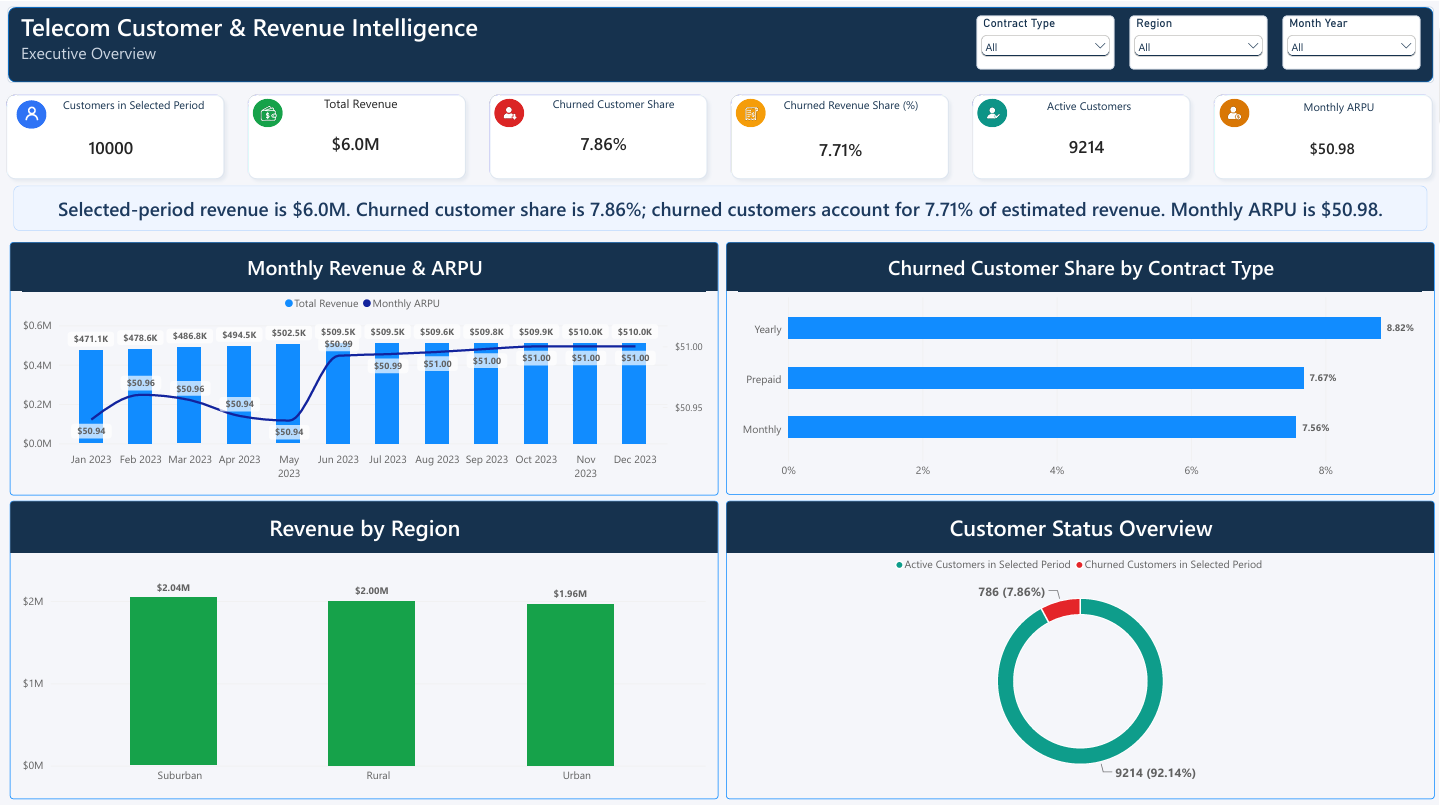

This screenshot's page, from the dashboard's own definition file:
{"tool":"powerbi","page":{"name":"Executive Overview","canvas":[1920,1080],"ordinal":0},"visuals":[{"type":"shape","box":[10,6,1902,102],"z":0},{"type":"textbox","box":[28,10,760,112],"z":1000},{"type":"slicer","fields":{"Values":["DimDate.Month Year"]},"box":[1710,18,184,72],"z":2000},{"type":"slicer","fields":{"Values":["DimCustomer.Region"]},"box":[1506,18,184,72],"z":3000},{"type":"slicer","fields":{"Values":["DimCustomer.ContractType"]},"box":[1302,18,184,72],"z":4000},{"type":"shape","box":[0,114.5,308.3,130],"z":5000,"group":"g1"},{"type":"group","id":"g1","title":"Group 1","box":[0,114.5,308.3,130],"z":5000},{"type":"group","id":"g2","title":"Group 2","box":[322.2,114.5,308,130],"z":5000,"group":"g27"},{"type":"shape","box":[322.2,114.5,308,130],"z":5000,"group":"g8"},{"type":"group","id":"g3","title":"Group 2","box":[644,114.5,308,130],"z":5000,"group":"g28"},{"type":"shape","box":[644,114.5,308,130],"z":5000,"group":"g9"},{"type":"group","id":"g4","title":"Group 2","box":[965.8,114.5,308.3,130],"z":5000,"group":"g29"},{"type":"shape","box":[965.8,114.5,308.3,130],"z":5000,"group":"g10"},{"type":"group","id":"g5","title":"Group 2","box":[1288,114.5,308.3,130],"z":5000,"group":"g30"},{"type":"shape","box":[1288,114.5,308.3,130],"z":5000,"group":"g11"},{"type":"group","id":"g6","title":"Group 2","box":[1610.1,114.5,308.8,130],"z":5000,"group":"g31"},{"type":"shape","box":[1610.1,114.5,308.8,130],"z":5000,"group":"g12"},{"type":"group","id":"g7","title":"Group 7","box":[322.2,114.5,308,130],"z":6000},{"type":"group","id":"g8","title":"Group 1","box":[322.2,114.5,308,130],"z":6000,"group":"g19"},{"type":"group","id":"g9","title":"Group 1","box":[644,114.5,308,130],"z":6000,"group":"g20"},{"type":"group","id":"g10","title":"Group 1","box":[965.8,114.5,308.3,130],"z":6000,"group":"g21"},{"type":"group","id":"g11","title":"Group 1","box":[1288,114.5,308.3,130],"z":6000,"group":"g22"},{"type":"group","id":"g12","title":"Group 1","box":[1610.1,114.5,308.8,130],"z":6000,"group":"g23"},{"type":"group","id":"g13","title":"Group 7","box":[644,114.5,308,130],"z":7000},{"type":"shape","box":[337.7,128.9,40,37.8],"z":7000,"group":"g27"},{"type":"shape","box":[659.5,128.9,40,37.8],"z":7000,"group":"g28"},{"type":"shape","box":[981.3,128.9,40,37.8],"z":7000,"group":"g29"},{"type":"shape","box":[1303.5,128.9,40,37.8],"z":7000,"group":"g30"},{"type":"shape","box":[1625.6,128.9,40.1,37.8],"z":7000,"group":"g31"},{"type":"shape","box":[22.2,130.4,40,37.8],"z":7000,"group":"g1"},{"type":"group","id":"g14","title":"Group 3","box":[322.2,114.5,308,130],"z":7001,"group":"g2"},{"type":"group","id":"g15","title":"Group 3","box":[644,114.5,308,130],"z":7001,"group":"g3"},{"type":"group","id":"g16","title":"Group 3","box":[965.8,114.5,308.3,130],"z":7001,"group":"g4"},{"type":"group","id":"g17","title":"Group 3","box":[1288,114.5,308.3,130],"z":7001,"group":"g5"},{"type":"group","id":"g18","title":"Group 3","box":[1610.1,114.5,308.8,130],"z":7001,"group":"g6"},{"type":"group","id":"g19","title":"Group 4","box":[322.2,114.5,308,130],"z":7003,"group":"g14"},{"type":"group","id":"g20","title":"Group 4","box":[644,114.5,308,130],"z":7003,"group":"g15"},{"type":"group","id":"g21","title":"Group 4","box":[965.8,114.5,308.3,130],"z":7003,"group":"g16"},{"type":"group","id":"g22","title":"Group 4","box":[1288,114.5,308.3,130],"z":7003,"group":"g17"},{"type":"group","id":"g23","title":"Group 4","box":[1610.1,114.5,308.8,130],"z":7003,"group":"g18"},{"type":"group","id":"g24","title":"Group 7","box":[965.8,114.5,308.3,130],"z":8000},{"type":"image","box":[24.9,135,34.3,26.3],"z":8000,"group":"g1"},{"type":"group","id":"g25","title":"Group 7","box":[1288,114.5,308.3,130],"z":9000},{"type":"textbox","box":[419,124,124.4,28.9],"z":9000,"group":"g8"},{"type":"textbox","box":[729,125.3,185,41.7],"z":9000,"group":"g9"},{"type":"textbox","box":[1045.1,126.5,188.7,38.7],"z":9000,"group":"g10"},{"type":"textbox","box":[76,127,212.5,27.5],"z":9000,"group":"g1"},{"type":"textbox","box":[1384.2,127.8,153.5,35],"z":9000,"group":"g11"},{"type":"textbox","box":[1726,128.2,116.1,33.9],"z":9000,"group":"g12"},{"type":"image","box":[341.1,134.6,34.3,26.3],"z":9000,"group":"g27"},{"type":"image","box":[662.9,134.6,34.3,26.3],"z":9000,"group":"g28"},{"type":"image","box":[984.7,134.6,34.3,26.3],"z":9000,"group":"g29"},{"type":"image","box":[1306.9,134.6,34.3,26.3],"z":9000,"group":"g30"},{"type":"image","box":[1629,134.6,34.4,26.3],"z":9000,"group":"g31"},{"type":"group","id":"g26","title":"Group 7","box":[1610.1,114.5,308.8,130],"z":10000},{"type":"cardVisual","fields":{"Data":["_Measures.Total Revenue"]},"box":[426.6,159,110,56.7],"z":10000,"group":"g8"},{"type":"cardVisual","fields":{"Data":["_Measures.Churn Share in Selected Period"]},"box":[758.1,159,103.3,56.7],"z":10000,"group":"g9"},{"type":"cardVisual","fields":{"Data":["_Measures.Customers in Selected Period"]},"box":[101.7,162.5,106.8,61.7],"z":10000,"group":"g1"},{"type":"cardVisual","fields":{"Data":["_Measures.Active Customers in Selected Period"]},"box":[1408.6,164.2,103.4,56.7],"z":10000,"group":"g11"},{"type":"cardVisual","fields":{"Data":["_Measures.Revenue at Risk %"]},"box":[1076.2,167.1,103.4,56.7],"z":10000,"group":"g10"},{"type":"cardVisual","fields":{"Data":["_Measures.ARPU"]},"box":[1730.3,167.1,131.9,53.7],"z":10000,"group":"g12"},{"type":"lineStackedColumnComboChart","title":"Monthly Revenue & ARPU","fields":{"Category":["DimDate.Month Year"],"Y":["_Measures.Total Revenue"],"Y2":["_Measures.ARPU"]},"box":[12.5,320,945,337.5],"z":11000},{"type":"group","id":"g27","title":"Group 8","box":[322.2,114.5,308,130],"z":11002,"group":"g7"},{"type":"group","id":"g28","title":"Group 8","box":[644,114.5,308,130],"z":11002,"group":"g13"},{"type":"group","id":"g29","title":"Group 8","box":[965.8,114.5,308.3,130],"z":11002,"group":"g24"},{"type":"group","id":"g30","title":"Group 8","box":[1288,114.5,308.3,130],"z":11002,"group":"g25"},{"type":"group","id":"g31","title":"Group 8","box":[1610.1,114.5,308.8,130],"z":11002,"group":"g26"},{"type":"clusteredBarChart","title":"Churned Customer Share by Contract Type","fields":{"Category":["DimCustomer.ContractType"],"Y":["_Measures.Churn Share in Selected Period"]},"box":[968.3,319.5,945,337.5],"z":12000},{"type":"clusteredColumnChart","title":"Revenue by Region","fields":{"Category":["DimCustomer.Region"],"Y":["_Measures.Total Revenue"]},"box":[12.5,665,945,397.5],"z":13000},{"type":"donutChart","title":"Customer Status Overview","fields":{"Y":["_Measures.Active Customers in Selected Period","_Measures.Churned Customers in Selected Period"]},"box":[967.5,665,945,397.5],"z":14000},{"type":"cardVisual","fields":{"Data":["_Measures.Executive Insight"]},"box":[17.5,245,1885,60],"z":15000}]}

Visuals, with their boxes in screenshot pixels (x1, y1, x2, y2), scaled from the page's 1920x1080 canvas onto the 1441x805 screenshot:
shape: {"left": 8, "top": 4, "right": 1435, "bottom": 80}
textbox: {"left": 21, "top": 7, "right": 591, "bottom": 91}
slicer - DimDate.Month Year: {"left": 1283, "top": 13, "right": 1421, "bottom": 67}
slicer - DimCustomer.Region: {"left": 1130, "top": 13, "right": 1268, "bottom": 67}
slicer - DimCustomer.ContractType: {"left": 977, "top": 13, "right": 1115, "bottom": 67}
shape: {"left": 0, "top": 85, "right": 231, "bottom": 182}
"Group 1" group: {"left": 0, "top": 85, "right": 231, "bottom": 182}
"Group 2" group: {"left": 242, "top": 85, "right": 473, "bottom": 182}
shape: {"left": 242, "top": 85, "right": 473, "bottom": 182}
"Group 2" group: {"left": 483, "top": 85, "right": 714, "bottom": 182}
shape: {"left": 483, "top": 85, "right": 714, "bottom": 182}
"Group 2" group: {"left": 725, "top": 85, "right": 956, "bottom": 182}
shape: {"left": 725, "top": 85, "right": 956, "bottom": 182}
"Group 2" group: {"left": 967, "top": 85, "right": 1198, "bottom": 182}
shape: {"left": 967, "top": 85, "right": 1198, "bottom": 182}
"Group 2" group: {"left": 1208, "top": 85, "right": 1440, "bottom": 182}
shape: {"left": 1208, "top": 85, "right": 1440, "bottom": 182}
"Group 7" group: {"left": 242, "top": 85, "right": 473, "bottom": 182}
"Group 1" group: {"left": 242, "top": 85, "right": 473, "bottom": 182}
"Group 1" group: {"left": 483, "top": 85, "right": 714, "bottom": 182}
"Group 1" group: {"left": 725, "top": 85, "right": 956, "bottom": 182}
"Group 1" group: {"left": 967, "top": 85, "right": 1198, "bottom": 182}
"Group 1" group: {"left": 1208, "top": 85, "right": 1440, "bottom": 182}
"Group 7" group: {"left": 483, "top": 85, "right": 714, "bottom": 182}
shape: {"left": 253, "top": 96, "right": 283, "bottom": 124}
shape: {"left": 495, "top": 96, "right": 525, "bottom": 124}
shape: {"left": 736, "top": 96, "right": 767, "bottom": 124}
shape: {"left": 978, "top": 96, "right": 1008, "bottom": 124}
shape: {"left": 1220, "top": 96, "right": 1250, "bottom": 124}
shape: {"left": 17, "top": 97, "right": 47, "bottom": 125}
"Group 3" group: {"left": 242, "top": 85, "right": 473, "bottom": 182}
"Group 3" group: {"left": 483, "top": 85, "right": 714, "bottom": 182}
"Group 3" group: {"left": 725, "top": 85, "right": 956, "bottom": 182}
"Group 3" group: {"left": 967, "top": 85, "right": 1198, "bottom": 182}
"Group 3" group: {"left": 1208, "top": 85, "right": 1440, "bottom": 182}
"Group 4" group: {"left": 242, "top": 85, "right": 473, "bottom": 182}
"Group 4" group: {"left": 483, "top": 85, "right": 714, "bottom": 182}
"Group 4" group: {"left": 725, "top": 85, "right": 956, "bottom": 182}
"Group 4" group: {"left": 967, "top": 85, "right": 1198, "bottom": 182}
"Group 4" group: {"left": 1208, "top": 85, "right": 1440, "bottom": 182}
"Group 7" group: {"left": 725, "top": 85, "right": 956, "bottom": 182}
image: {"left": 19, "top": 101, "right": 44, "bottom": 120}
"Group 7" group: {"left": 967, "top": 85, "right": 1198, "bottom": 182}
textbox: {"left": 314, "top": 92, "right": 408, "bottom": 114}
textbox: {"left": 547, "top": 93, "right": 686, "bottom": 124}
textbox: {"left": 784, "top": 94, "right": 926, "bottom": 123}
textbox: {"left": 57, "top": 95, "right": 217, "bottom": 115}
textbox: {"left": 1039, "top": 95, "right": 1154, "bottom": 121}
textbox: {"left": 1295, "top": 96, "right": 1383, "bottom": 121}
image: {"left": 256, "top": 100, "right": 282, "bottom": 120}
image: {"left": 498, "top": 100, "right": 523, "bottom": 120}
image: {"left": 739, "top": 100, "right": 765, "bottom": 120}
image: {"left": 981, "top": 100, "right": 1007, "bottom": 120}
image: {"left": 1223, "top": 100, "right": 1248, "bottom": 120}
"Group 7" group: {"left": 1208, "top": 85, "right": 1440, "bottom": 182}
cardVisual - _Measures.Total Revenue: {"left": 320, "top": 119, "right": 403, "bottom": 161}
cardVisual - _Measures.Churn Share in Selected Period: {"left": 569, "top": 119, "right": 646, "bottom": 161}
cardVisual - _Measures.Customers in Selected Period: {"left": 76, "top": 121, "right": 156, "bottom": 167}
cardVisual - _Measures.Active Customers in Selected Period: {"left": 1057, "top": 122, "right": 1135, "bottom": 165}
cardVisual - _Measures.Revenue at Risk %: {"left": 808, "top": 125, "right": 885, "bottom": 167}
cardVisual - _Measures.ARPU: {"left": 1299, "top": 125, "right": 1398, "bottom": 165}
"Monthly Revenue & ARPU" lineStackedColumnComboChart: {"left": 9, "top": 239, "right": 719, "bottom": 490}
"Group 8" group: {"left": 242, "top": 85, "right": 473, "bottom": 182}
"Group 8" group: {"left": 483, "top": 85, "right": 714, "bottom": 182}
"Group 8" group: {"left": 725, "top": 85, "right": 956, "bottom": 182}
"Group 8" group: {"left": 967, "top": 85, "right": 1198, "bottom": 182}
"Group 8" group: {"left": 1208, "top": 85, "right": 1440, "bottom": 182}
"Churned Customer Share by Contract Type" clusteredBarChart: {"left": 727, "top": 238, "right": 1436, "bottom": 490}
"Revenue by Region" clusteredColumnChart: {"left": 9, "top": 496, "right": 719, "bottom": 792}
"Customer Status Overview" donutChart: {"left": 726, "top": 496, "right": 1435, "bottom": 792}
cardVisual - _Measures.Executive Insight: {"left": 13, "top": 183, "right": 1428, "bottom": 227}
